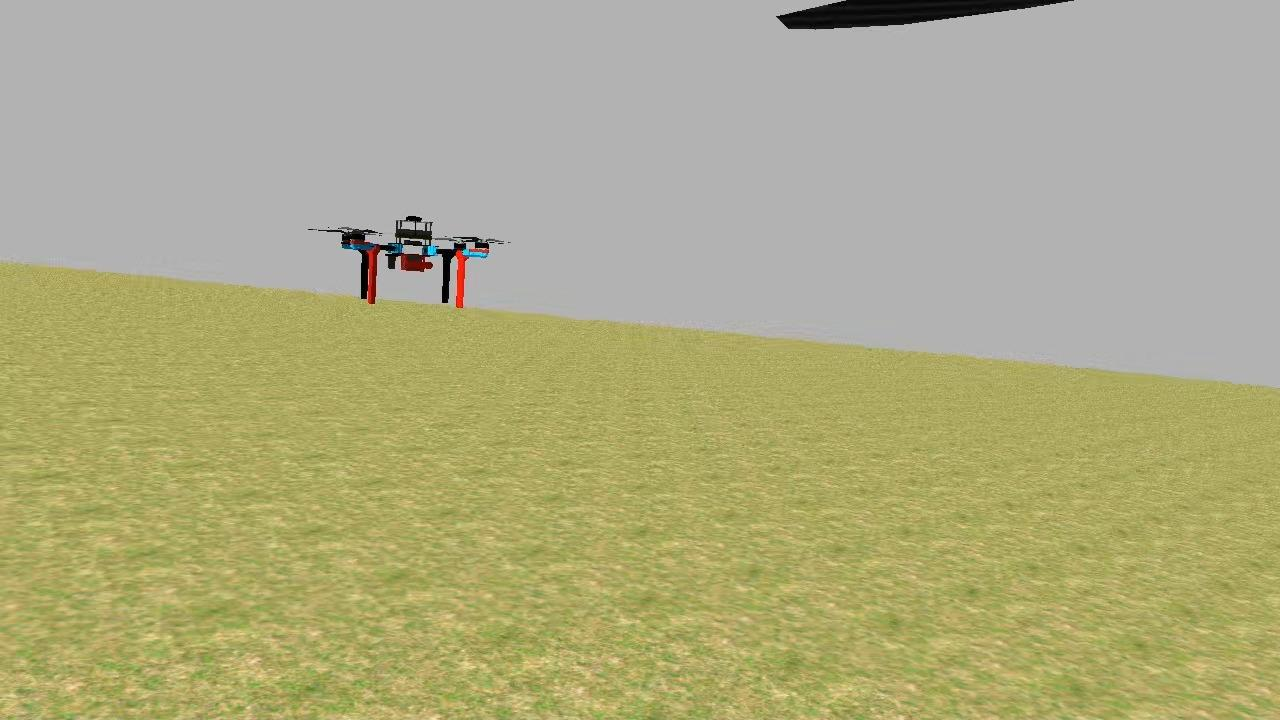UAV: (333, 206, 497, 316)
